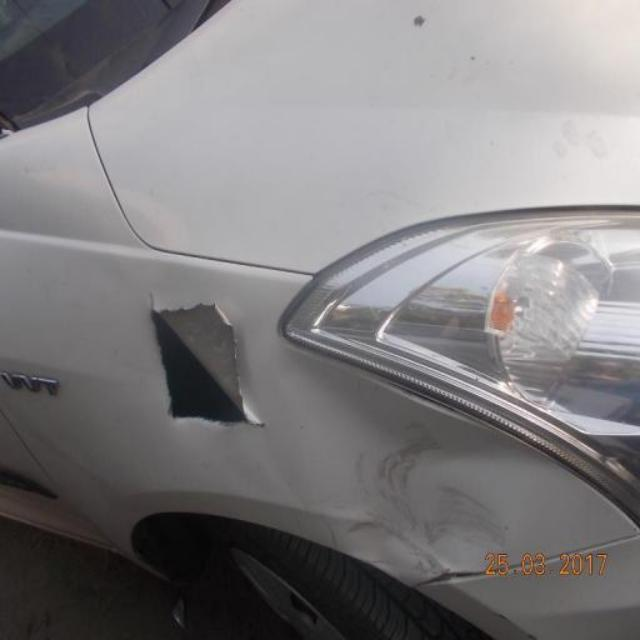dent: (286, 354, 521, 587)
rub: (143, 293, 269, 435)
